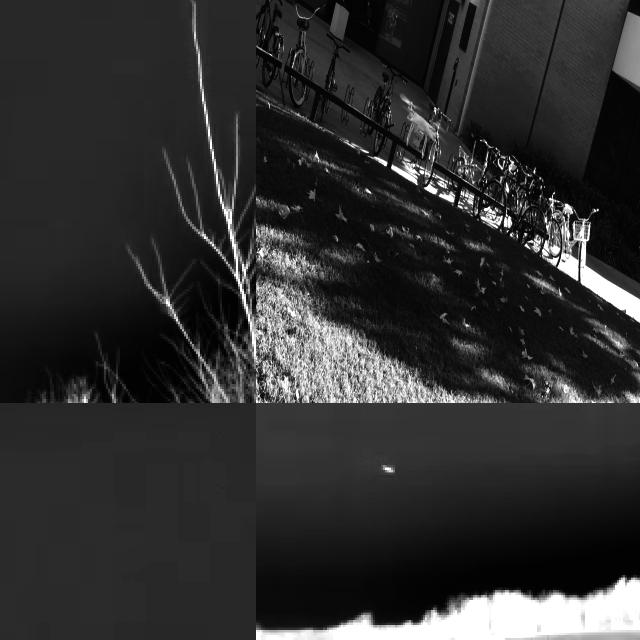1: (371, 456, 407, 489)
drone: (402, 97, 440, 150)
